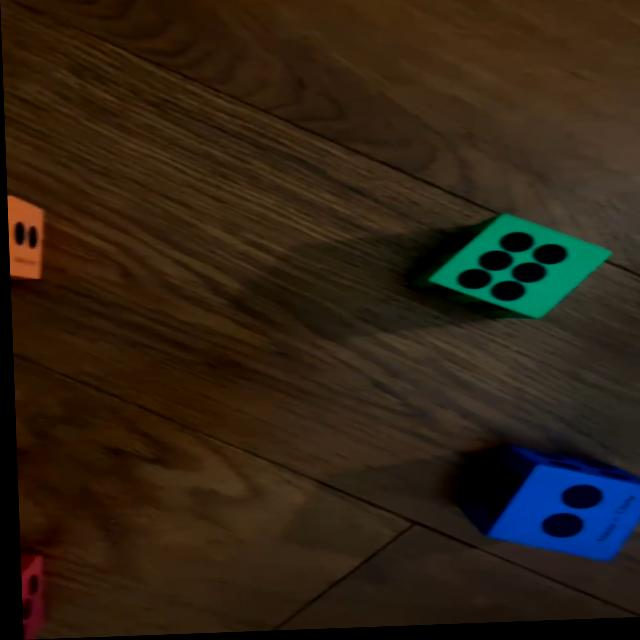cube: (454, 446, 640, 570), (407, 213, 611, 326), (17, 554, 45, 637)
